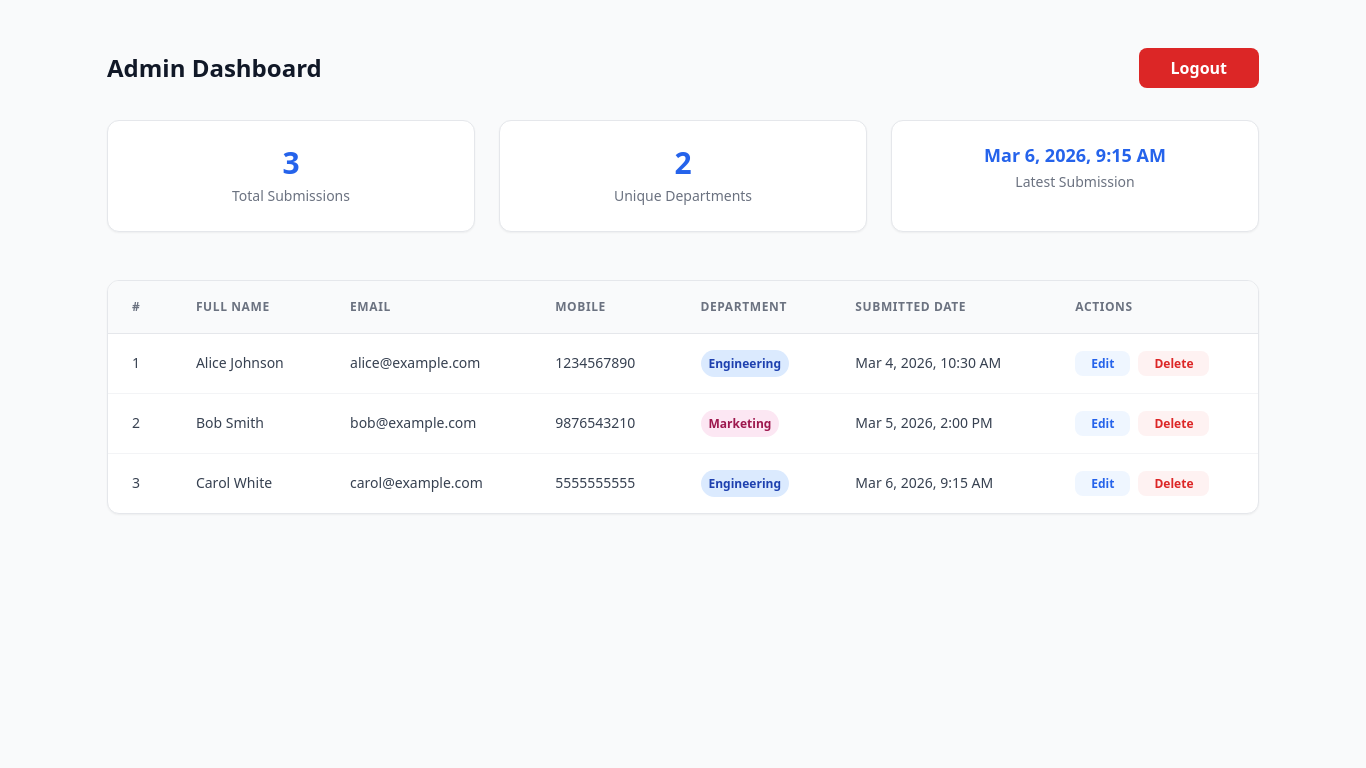
Test: AdminDashboard › edit functionality › saves changes and updates the table
Click the button named "Edit Alice Johnson" at (1103, 363), box [1075,351,1130,376]
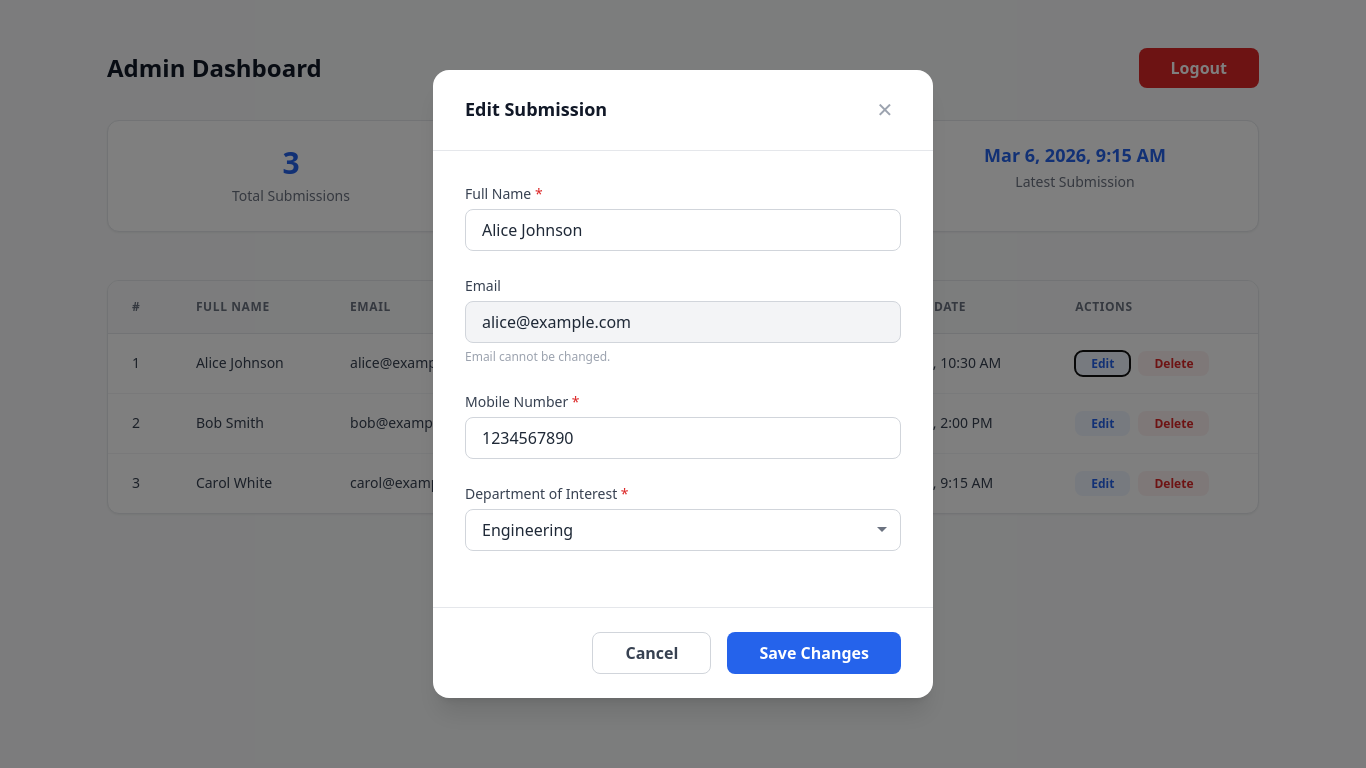
Replace the text in the field labelled "Full Name" with "Alice Updated" at (683, 230), box [465,209,901,251]
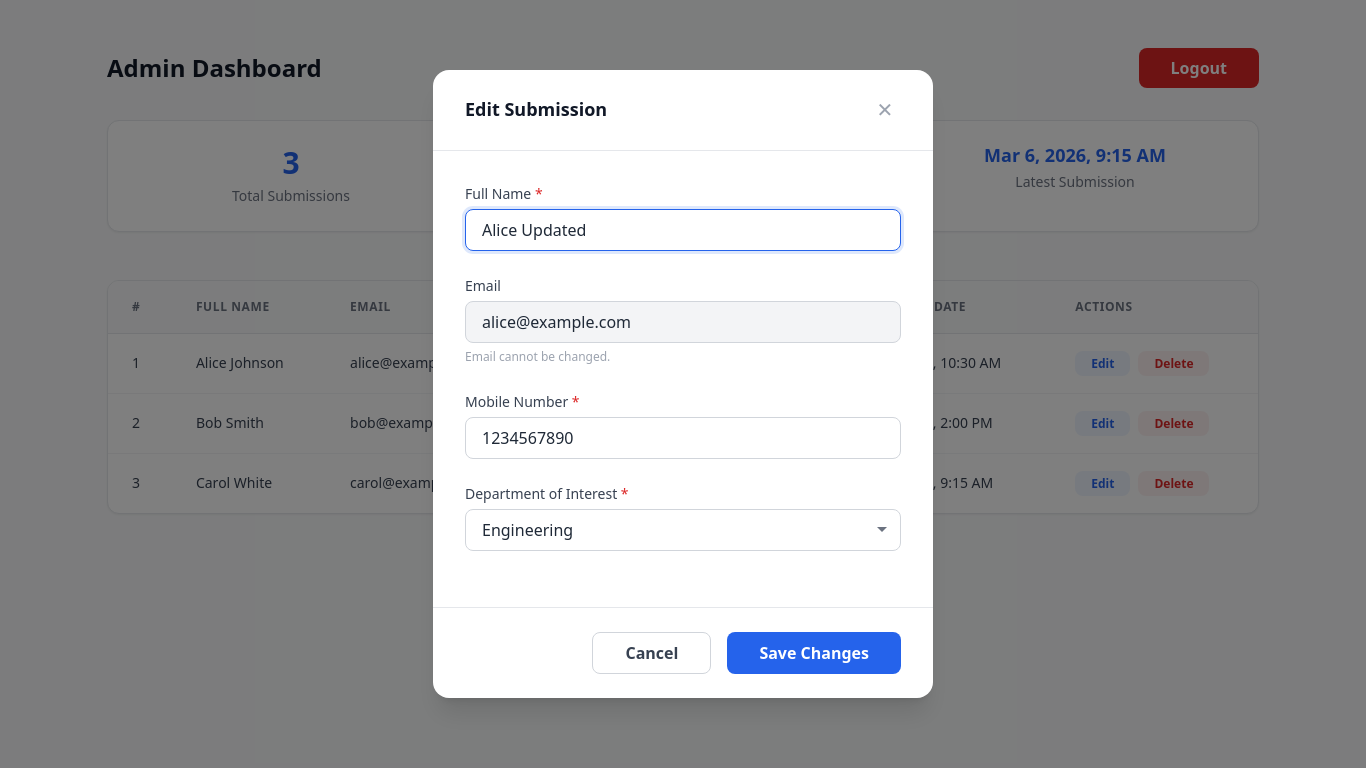
Click the button "Save Changes" at (814, 653), box [727,632,901,674]
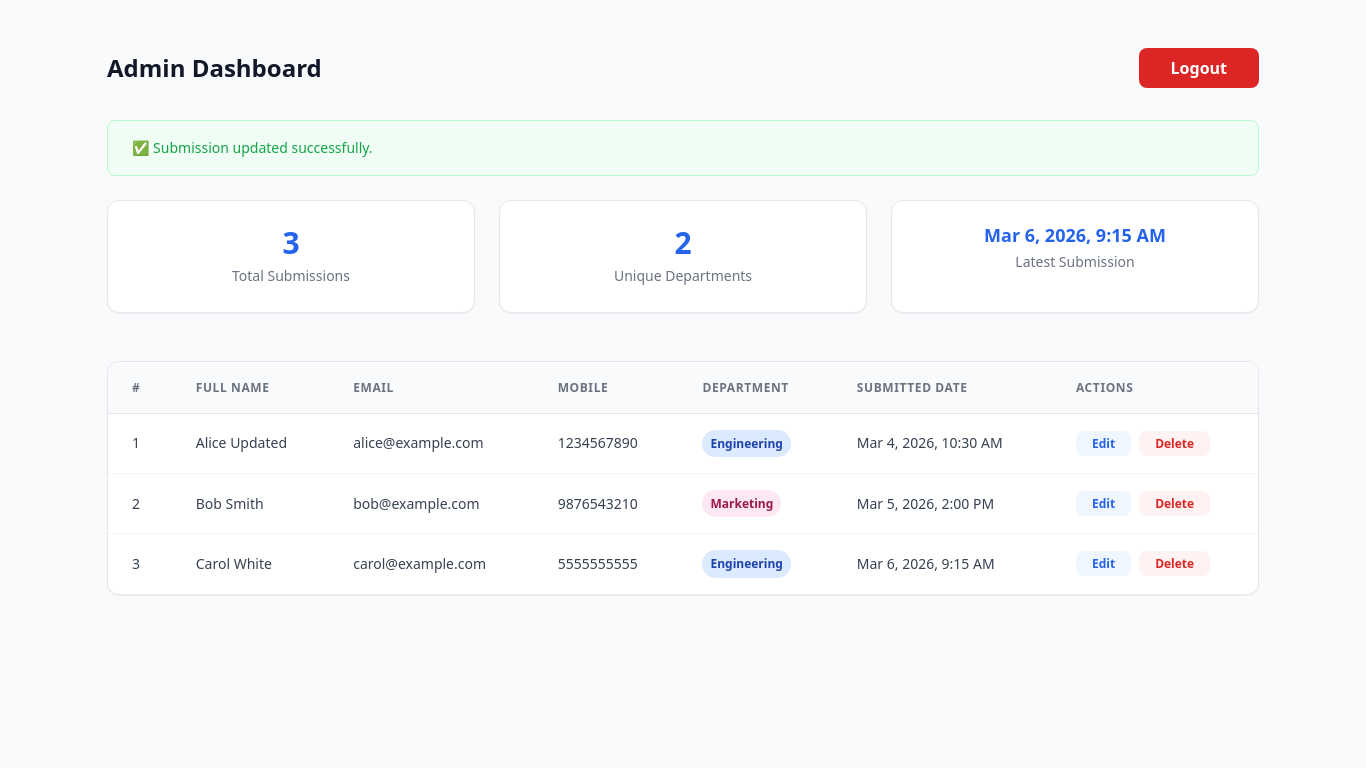
Now the heading "Edit Submission" is gone
Now the text "Alice Updated" is shown, box [172,414,329,474]
Now the text "✅ Submission updated successfully." is shown, box [107,120,1259,176]
